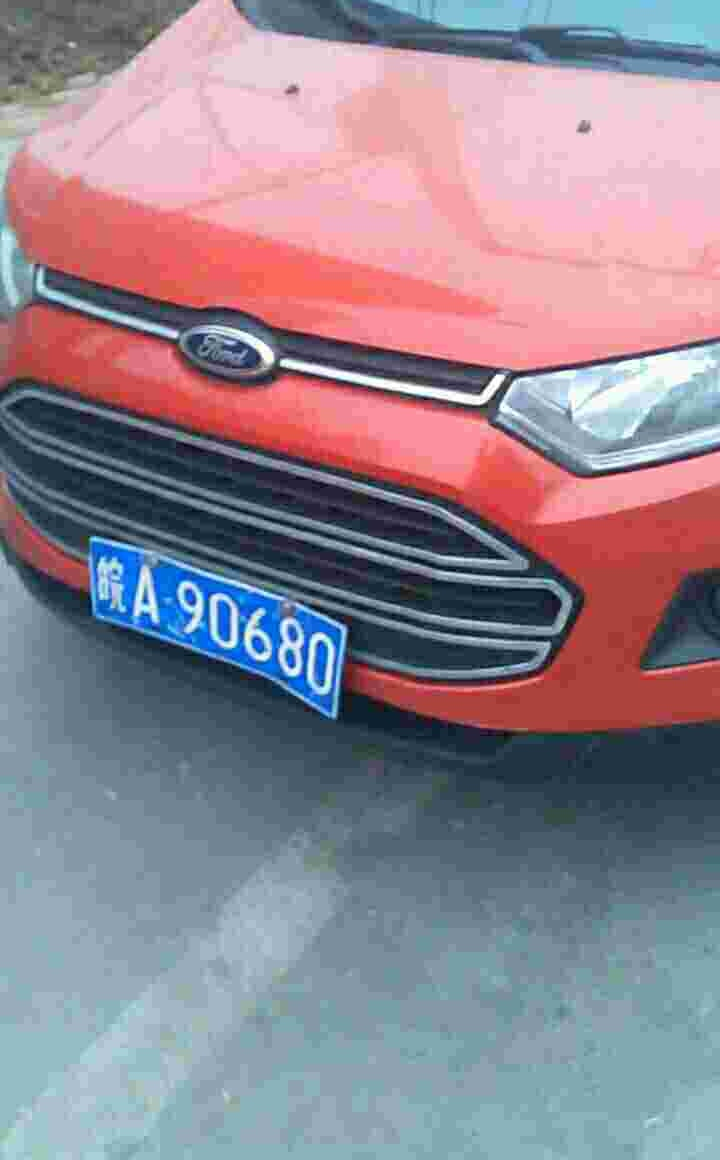license_plate: (83, 540, 347, 710)
